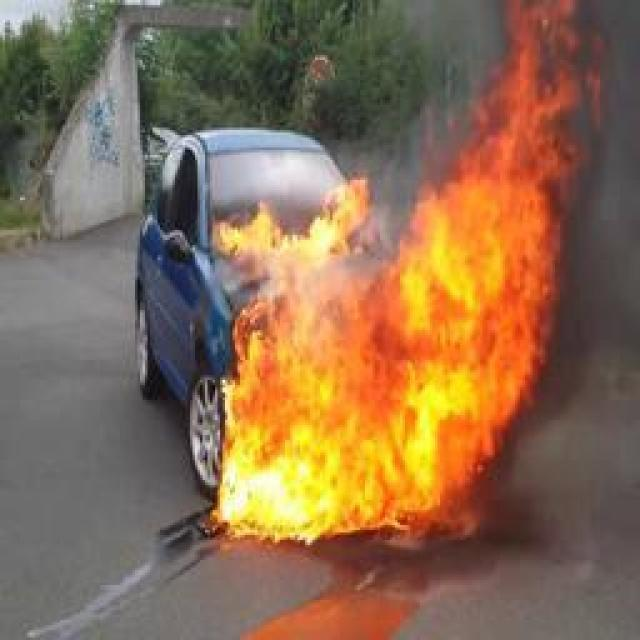Fire: (208, 0, 606, 545)
